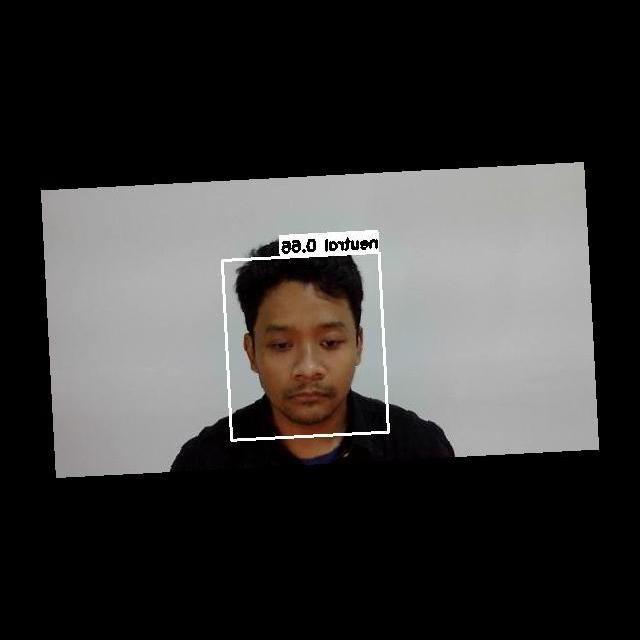Natural: (250, 304, 360, 414)
